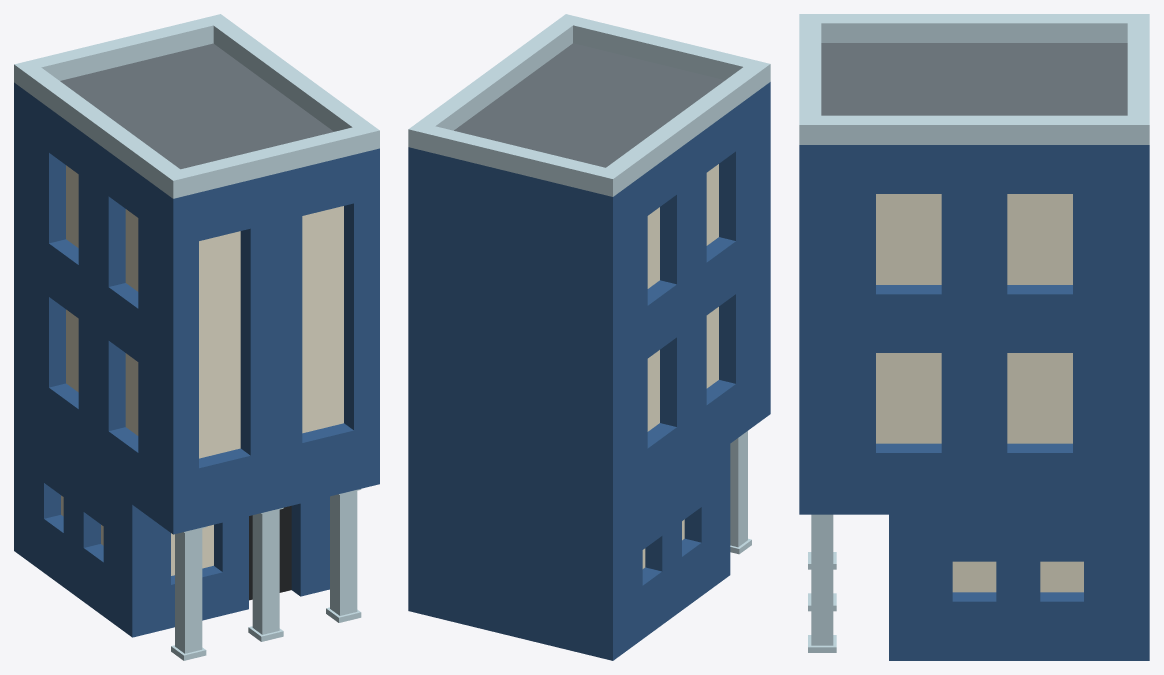
File: Building_9 (Blue).obj
3 renders of one model, left to right at view 1: azimuth 30°, elevation 25°; view 2: azimuth 150°, elevation 25°; view 3: azimuth 270°, elevation 25°, orthographic. The views are drawn at different scales.
Visible parts, largest first — view 1: Building_9_(Blue); view 2: Building_9_(Blue); view 3: Building_9_(Blue).
Boxes of the visible parts, <box> form: Building_9_(Blue): <box>14,14,379,660</box>; Building_9_(Blue): <box>408,14,770,660</box>; Building_9_(Blue): <box>799,14,1149,660</box>.
Bounding box in the file's own units: 1.2 × 2.7 × 1.6.
